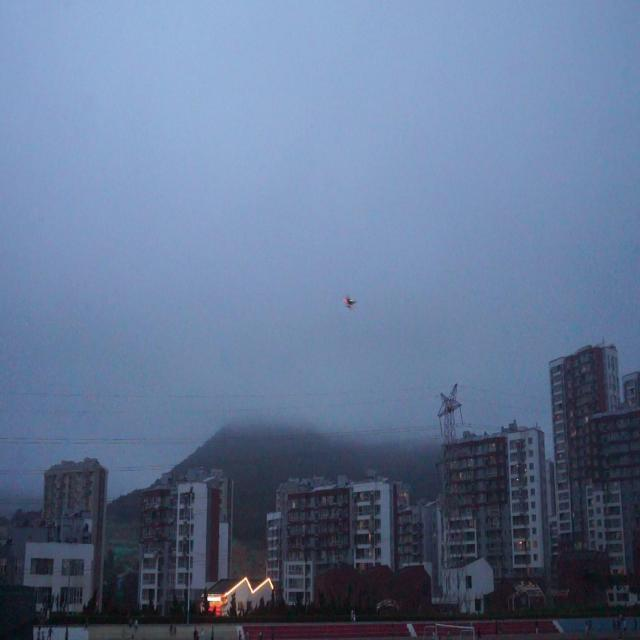UAV: (343, 294, 357, 310)
